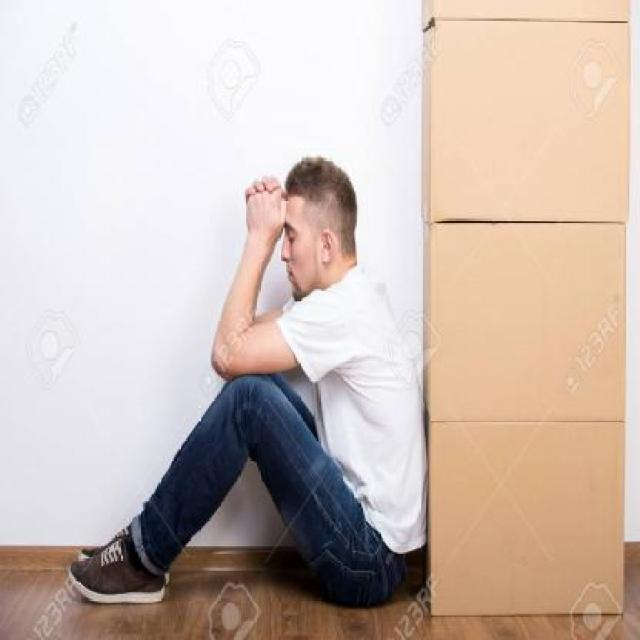box: (421, 14, 639, 228), (417, 216, 638, 422), (422, 422, 636, 618)
